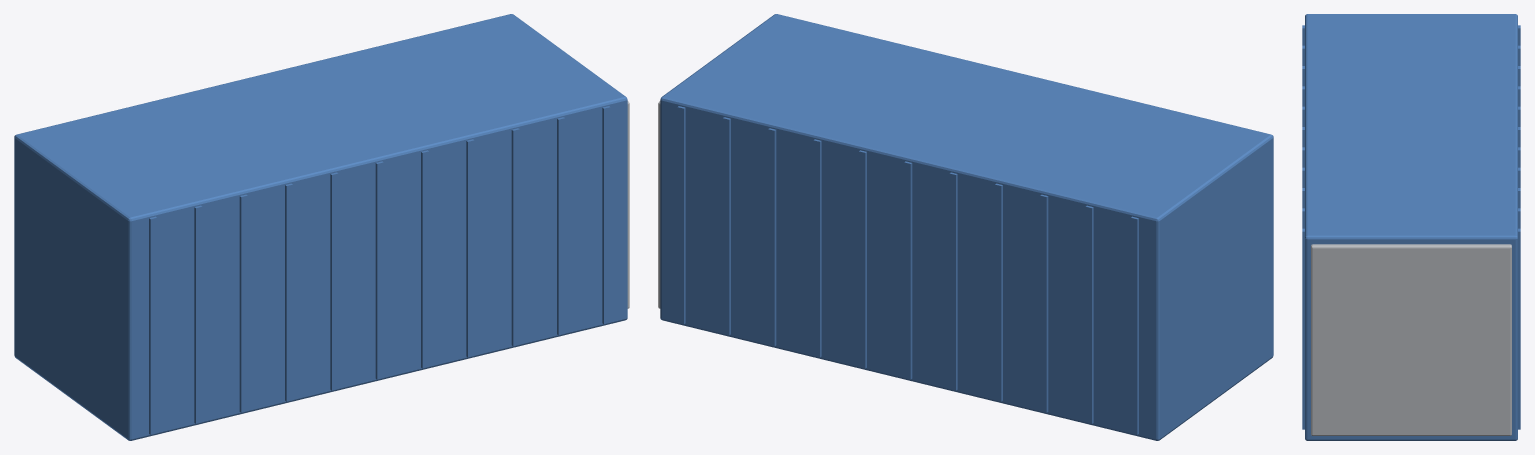
Rendered from container_blue.glb.
The picture shows the model from 3 angles, left to right: view 1: azimuth 30°, elevation 25°; view 2: azimuth 150°, elevation 25°; view 3: azimuth 270°, elevation 25°; orthographic projection. The views are drawn at different scales.
Parts seen in each view (by area): view 1: shell, rib.002, rib.004, rib.005, rib.007, rib.010, rib.001, rib.008, rib.009, rib, rib.003, rib.006 (+1 smaller); view 2: shell, rib.002, rib.004, rib.005, rib.007, rib.010, rib.001, rib.008, rib.009, rib, rib.003, rib.006 (+1 smaller); view 3: shell, door, rib.010.
Boxes of the visible parts, x1=… form: shell: x1=14, y1=14, x2=627, y2=440; rib.002: x1=239, y1=194, x2=247, y2=412; rib.004: x1=330, y1=172, x2=338, y2=390; rib.005: x1=375, y1=161, x2=383, y2=379; rib.007: x1=466, y1=139, x2=474, y2=357; rib.010: x1=602, y1=106, x2=610, y2=324; rib.001: x1=194, y1=205, x2=202, y2=423; rib.008: x1=511, y1=128, x2=519, y2=346; rib.009: x1=557, y1=117, x2=564, y2=335; rib: x1=149, y1=216, x2=156, y2=434; rib.003: x1=285, y1=183, x2=292, y2=401; rib.006: x1=421, y1=150, x2=428, y2=368; shell: x1=660, y1=14, x2=1273, y2=440; rib.002: x1=1040, y1=194, x2=1048, y2=412; rib.004: x1=949, y1=172, x2=957, y2=390; rib.005: x1=904, y1=161, x2=912, y2=379; rib.007: x1=813, y1=139, x2=821, y2=357; rib.010: x1=677, y1=106, x2=685, y2=324; rib.001: x1=1085, y1=205, x2=1093, y2=423; rib.008: x1=768, y1=128, x2=776, y2=346; rib.009: x1=723, y1=117, x2=730, y2=335; rib: x1=1131, y1=216, x2=1138, y2=434; rib.003: x1=995, y1=183, x2=1002, y2=401; rib.006: x1=859, y1=150, x2=866, y2=368; shell: x1=1305, y1=14, x2=1517, y2=440; door: x1=1311, y1=244, x2=1511, y2=435; rib.010: x1=1302, y1=228, x2=1520, y2=429.
Size of the model in its own units: 6.12 by 2.59 by 2.5.
